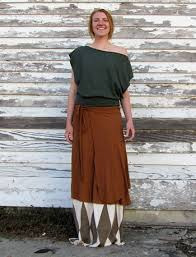C_skirt: (65, 99, 136, 253)
